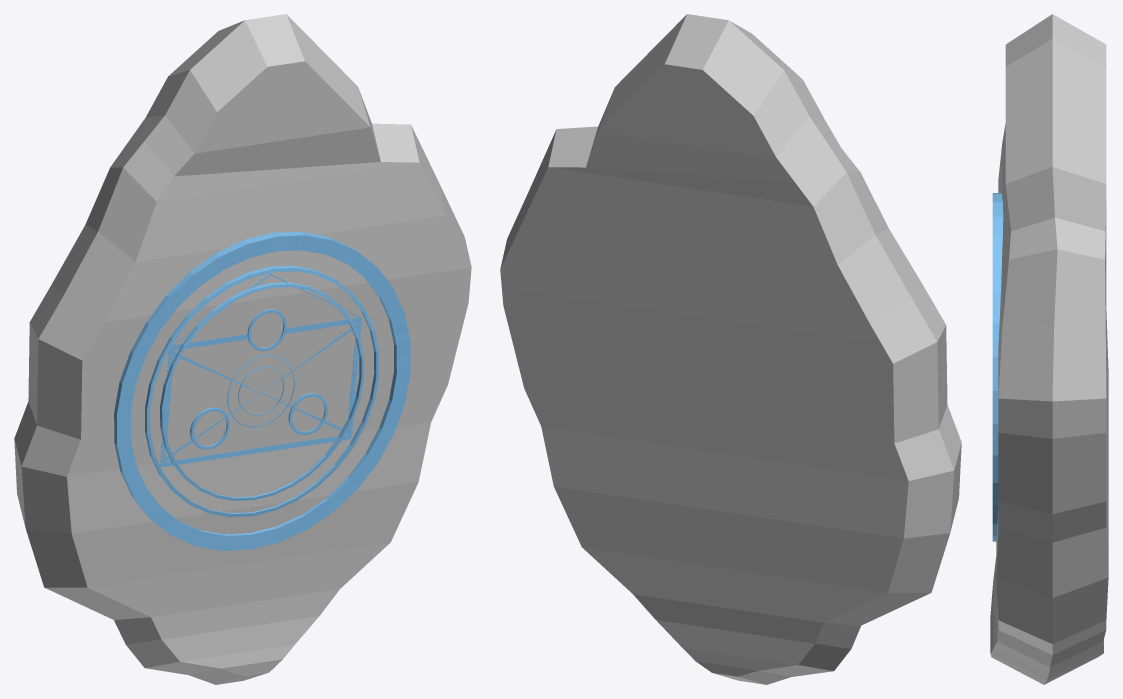
File: firestrike.fbx
The picture shows the model from 3 angles, left to right: view 1: azimuth 30°, elevation 25°; view 2: azimuth 150°, elevation 25°; view 3: azimuth 270°, elevation 25°; orthographic projection. The views are drawn at different scales.
Visible parts, largest first — view 1: Cube.002, Cube.004; view 2: Cube.002; view 3: Cube.002, Cube.004.
Part boxes in pixels (box(x1,y1,x2,y2)): Cube.002: box(14, 14, 471, 684); Cube.004: box(114, 231, 410, 550); Cube.002: box(500, 14, 961, 684); Cube.002: box(990, 14, 1108, 684); Cube.004: box(992, 193, 1003, 541).
Size of the model in its own units: 121 by 171 by 27.1.
